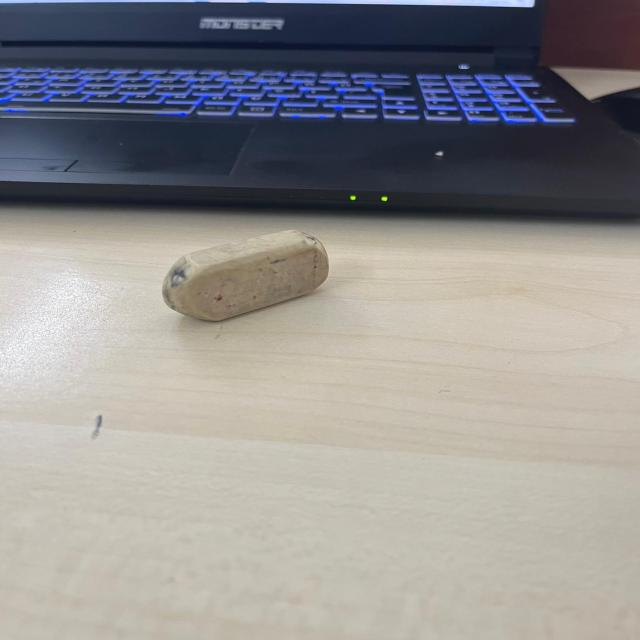eraser: (150, 223, 334, 329)
